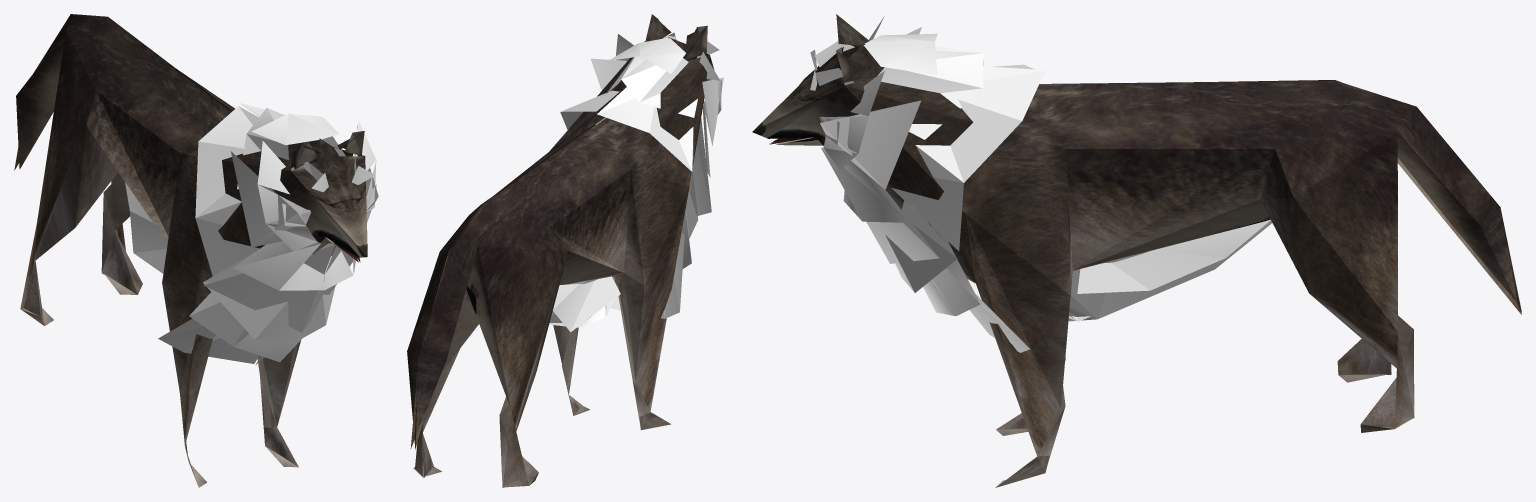
Rendered from bulwark.glb.
3 views of the same model, side by side, from view 1: azimuth 30°, elevation 25°; view 2: azimuth 150°, elevation 25°; view 3: azimuth 270°, elevation 25° (orthographic). The views are drawn at different scales.
Visible parts, largest first — view 1: bulwark; view 2: bulwark; view 3: bulwark.
Boxes of the visible parts, x1,y1,x2,y2 form: bulwark: [14, 14, 378, 487]; bulwark: [407, 14, 723, 487]; bulwark: [752, 14, 1521, 487].
Bounding box in the file's own units: 0.244 × 0.5721 × 0.9145.
Materials: 2 (1 with a texture image).
